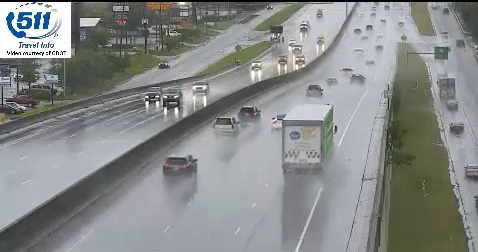car: (163, 155, 197, 179), (214, 116, 237, 136), (271, 114, 291, 130), (238, 106, 259, 121), (307, 84, 323, 97), (350, 74, 365, 86)
small-truck: (282, 106, 334, 173)
